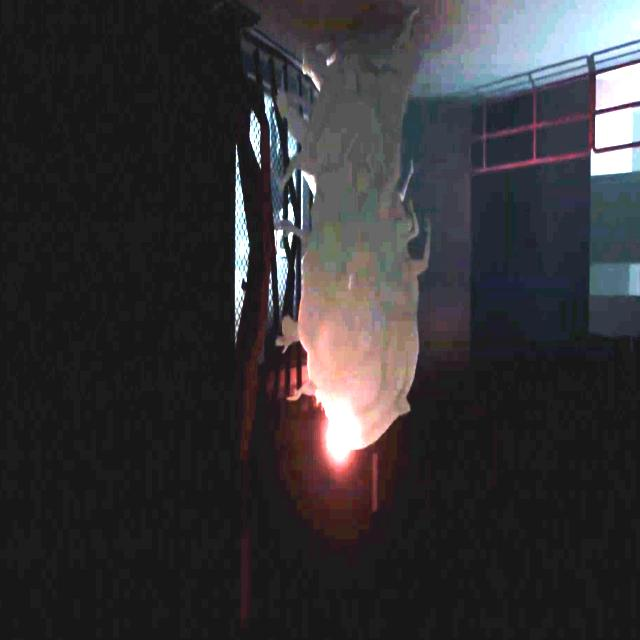blob: (276, 6, 432, 448)
interactible: (318, 424, 352, 481)
structure: (473, 56, 640, 180)
